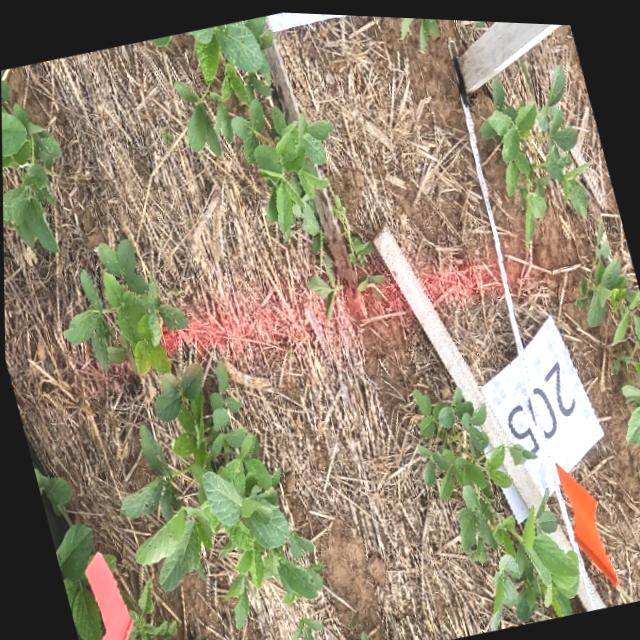soy_plant: (63, 239, 319, 624), (414, 384, 577, 625), (174, 14, 330, 246), (1, 74, 59, 250), (53, 524, 103, 640), (332, 192, 384, 295), (305, 250, 342, 315), (33, 469, 69, 511), (293, 614, 319, 640), (507, 438, 534, 459), (625, 399, 640, 436), (358, 628, 372, 640)
